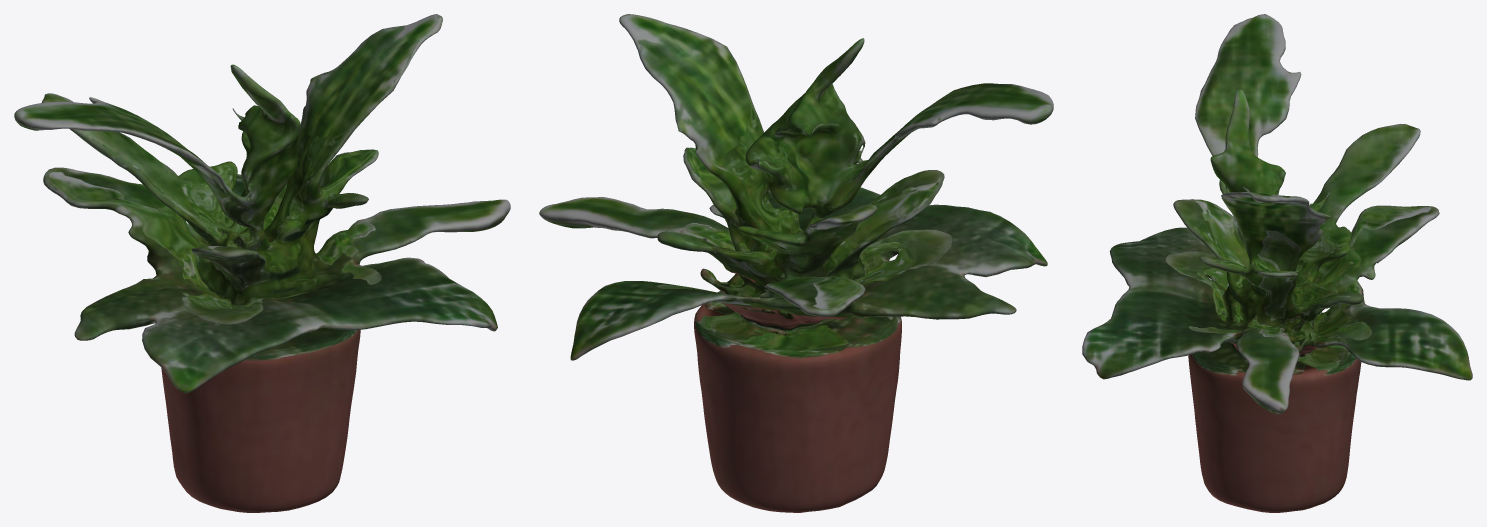
File: d94025239213_small_plant__3d_ass.fbx
The picture shows the model from 3 angles, left to right: view 1: azimuth 30°, elevation 25°; view 2: azimuth 150°, elevation 25°; view 3: azimuth 270°, elevation 25°; orthographic projection. The views are drawn at different scales.
Visible parts, largest first — view 1: mesh; view 2: mesh; view 3: mesh.
Boxes of the visible parts, left/top/right/bottom form: mesh: left=14, top=14, right=510, bottom=512; mesh: left=539, top=14, right=1053, bottom=512; mesh: left=1082, top=14, right=1472, bottom=512.
Bounding box in the file's own units: 99.34 × 83.51 × 78.3.
